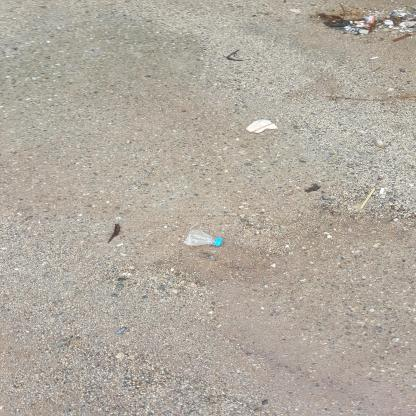Plastic: (184, 230, 223, 246), (246, 119, 278, 133), (363, 15, 374, 30)
Waste: (324, 20, 350, 27), (216, 238, 223, 246), (371, 56, 379, 60)
